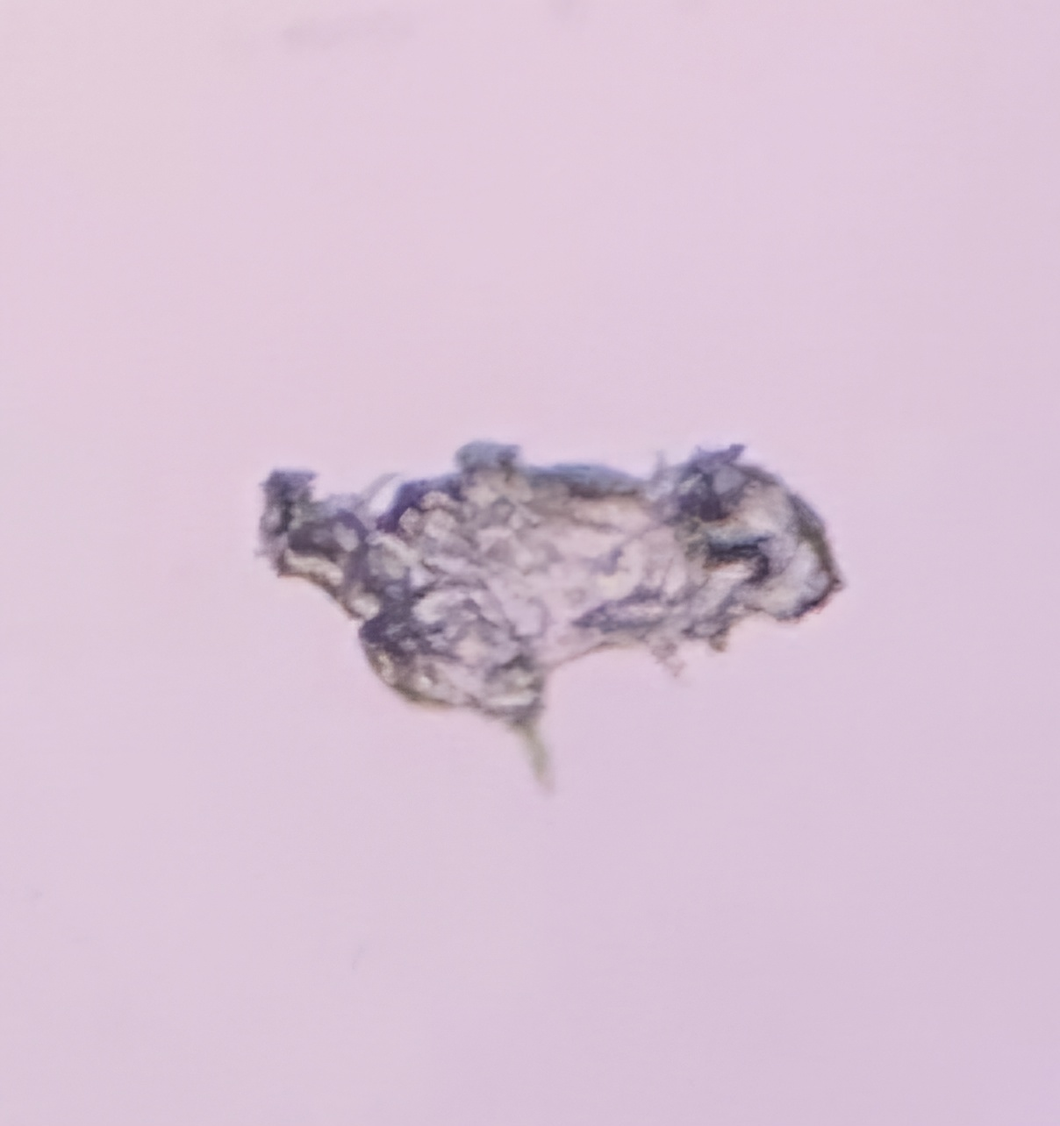microplastic: (242, 420, 885, 802)
